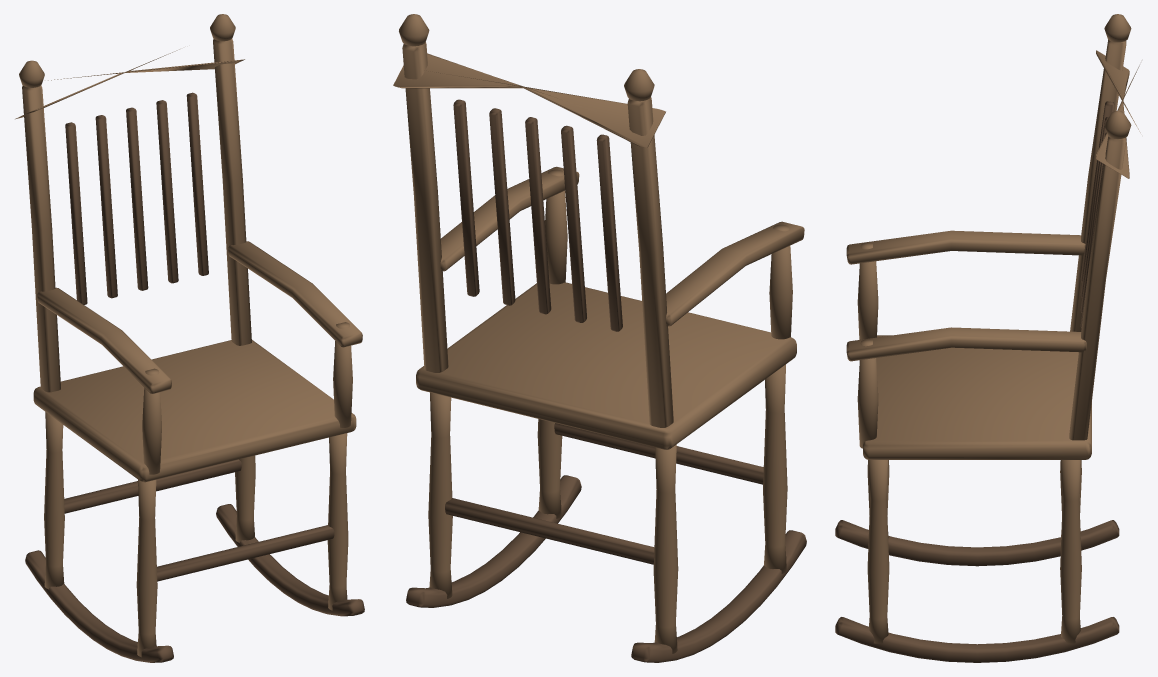
The model's file is rocking.glb.
3 views of the same model, side by side, from view 1: azimuth 30°, elevation 25°; view 2: azimuth 150°, elevation 25°; view 3: azimuth 270°, elevation 25° (orthographic). The views are drawn at different scales.
Visible parts, largest first — view 1: rock_mesh; view 2: rock_mesh; view 3: rock_mesh.
Part boxes in pixels (bbox=[...]): rock_mesh: bbox=[15, 14, 364, 662]; rock_mesh: bbox=[393, 14, 806, 662]; rock_mesh: bbox=[835, 14, 1140, 662].
Bounding box in the file's own units: 0.5 × 1.16 × 0.592.
